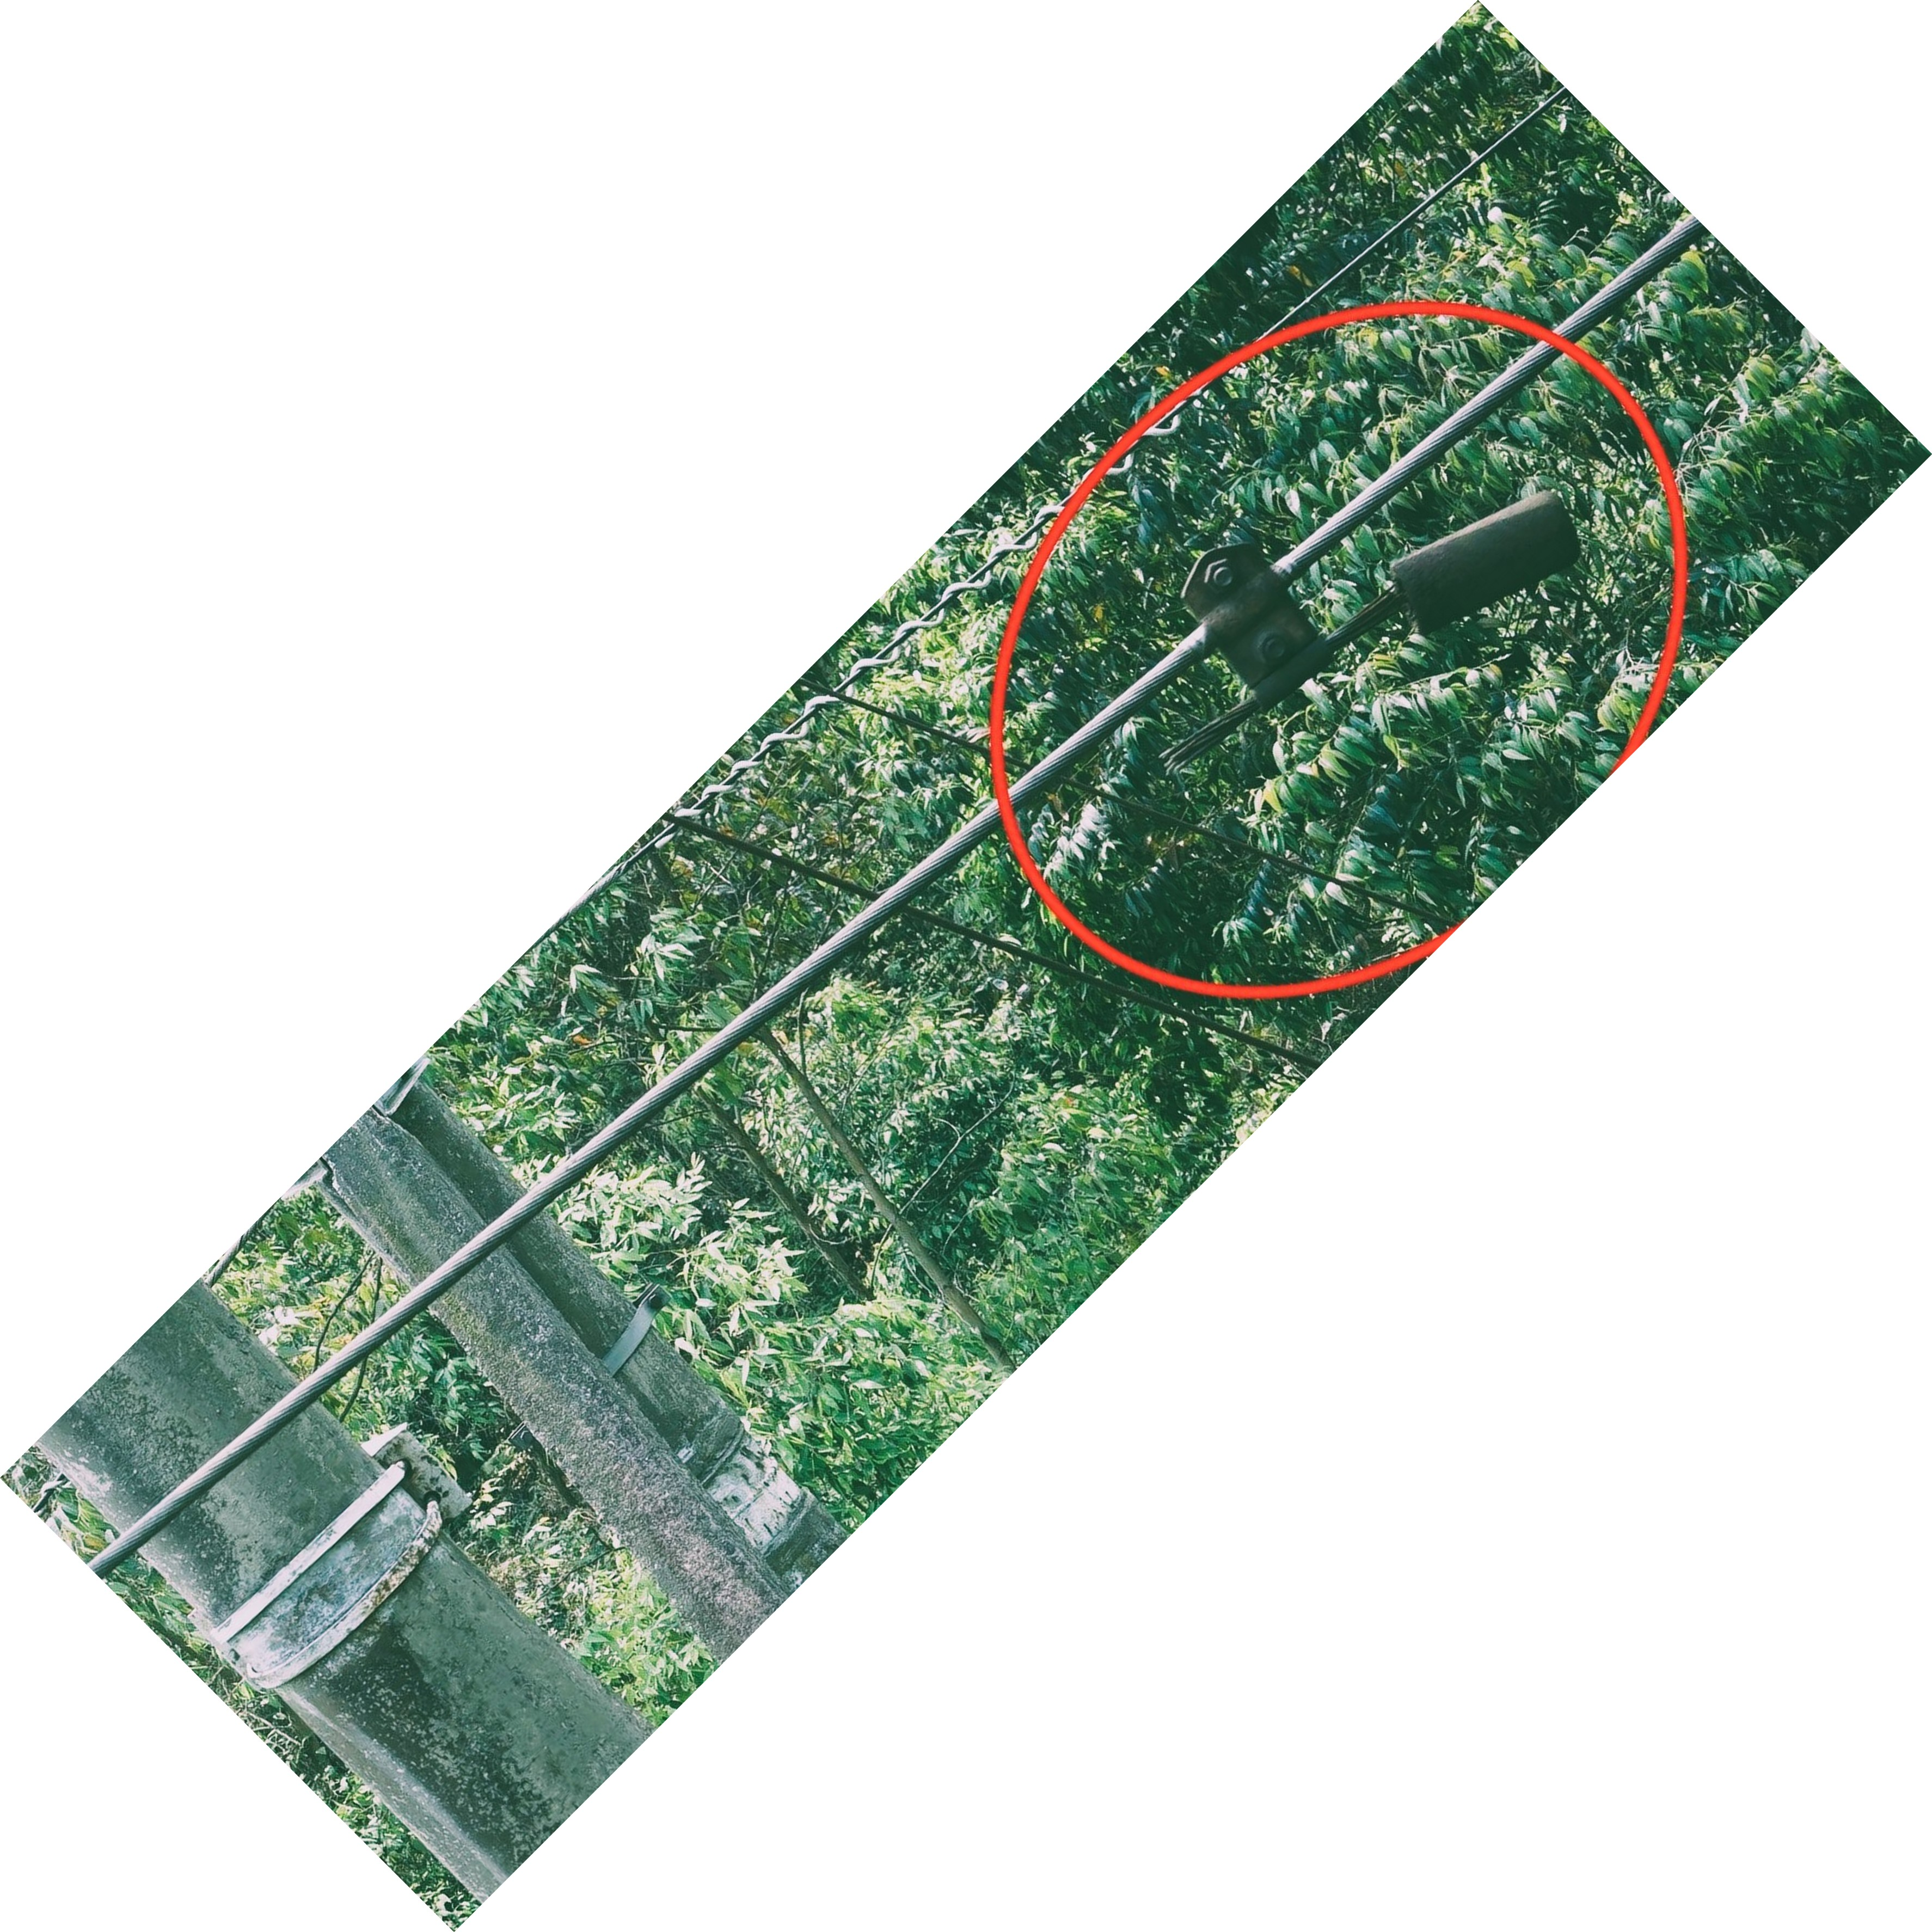Damage of shockproof hammer: (1122, 444, 1617, 801)
